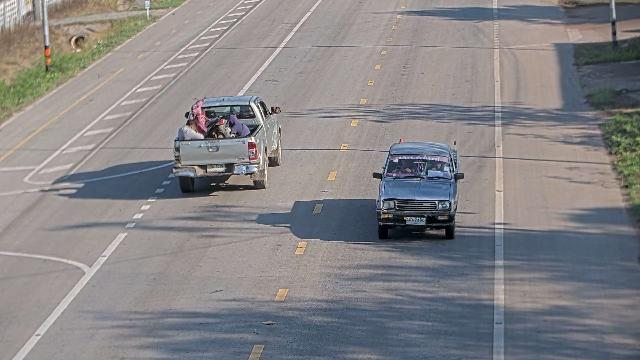pickup-truck: (172, 94, 283, 193), (372, 138, 464, 240)
